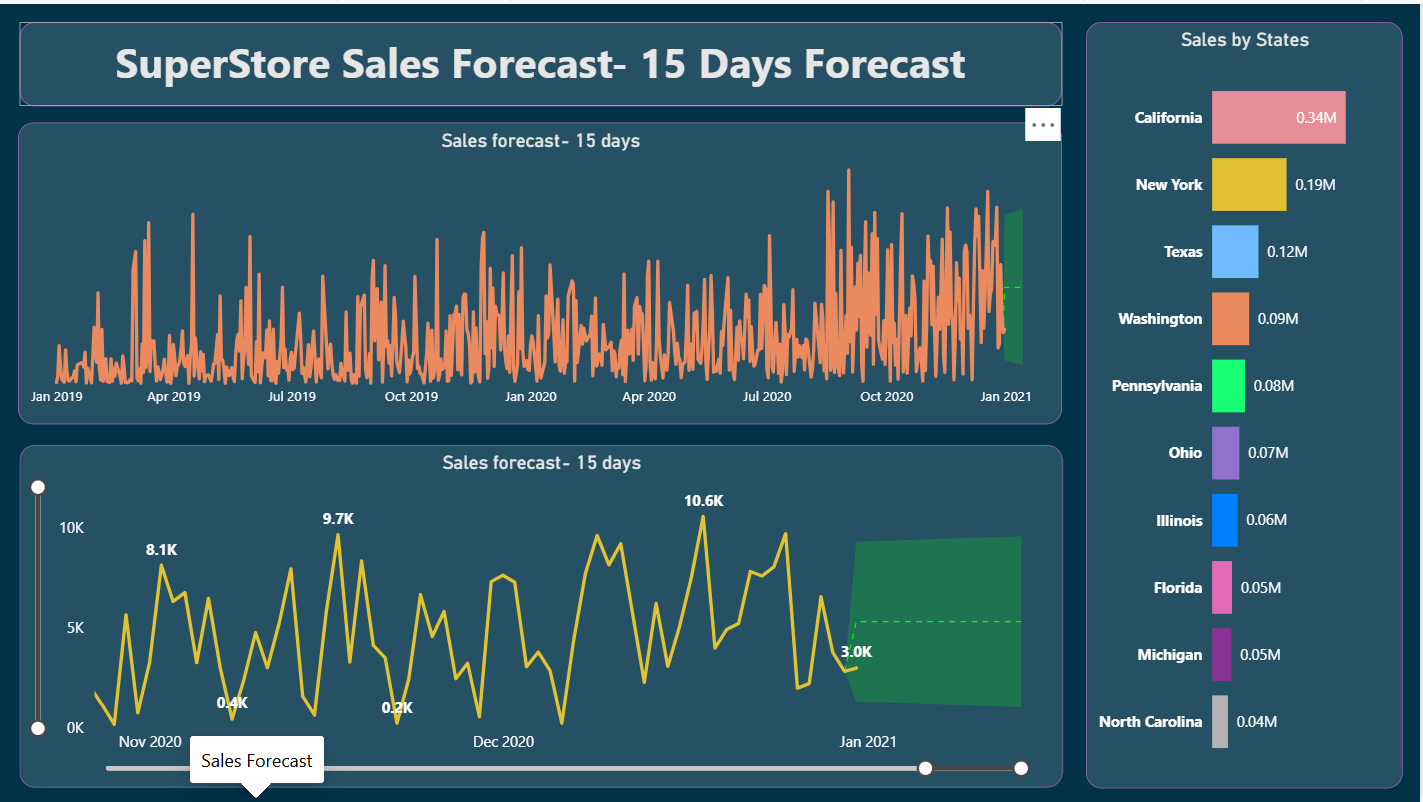

The page's visual inventory and layout, read from the dashboard file:
{"tool":"powerbi","page":{"name":"Sales Forecast","canvas":[1280,720],"ordinal":1},"visuals":[{"type":"lineChart","title":"Sales forecast- 15 days","fields":{"Y":["Sum(Sheet1.Sales)"],"Category":["Sheet1.Order Date"]},"box":[16.2,106.8,940.8,271.7],"z":0},{"type":"lineChart","title":"Sales forecast- 15 days","fields":{"Y":["Sum(Sheet1.Sales)"],"Category":["Sheet1.Order Date"]},"box":[17.8,398,940,308.8],"z":1000},{"type":"clusteredBarChart","title":"Sales by States","fields":{"Y":["Sum(Sheet1.Sales)"],"Category":["Sheet1.State"]},"box":[978.6,16.2,285.2,690.7],"z":2000},{"type":"textbox","box":[17.6,16.2,939.4,75.7],"z":3000}]}

Visuals, with their boxes in screenshot pixels (x1, y1, x2, y2), scaled from the page's 1280x720 canvas onto the 1423x802 screenshot:
"Sales forecast- 15 days" lineChart: region(18, 119, 1064, 422)
"Sales forecast- 15 days" lineChart: region(20, 443, 1065, 787)
"Sales by States" clusteredBarChart: region(1088, 18, 1405, 787)
textbox: region(20, 18, 1064, 102)
